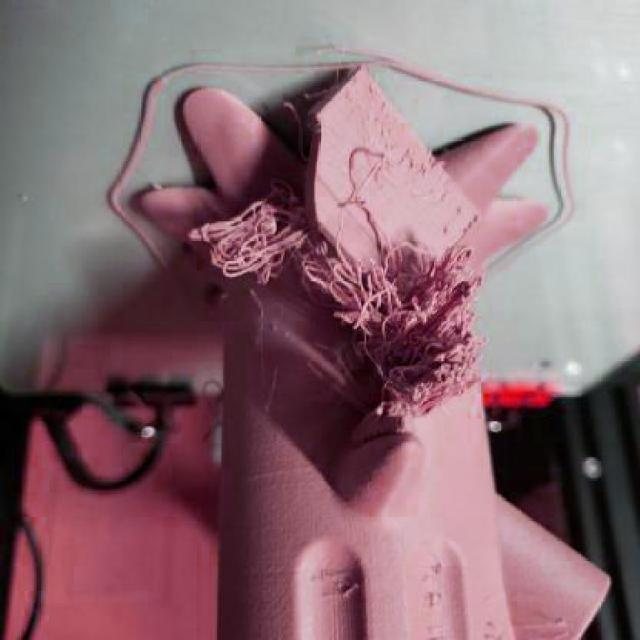spaghetti: (304, 148, 484, 421), (185, 176, 304, 292), (280, 85, 338, 164)
